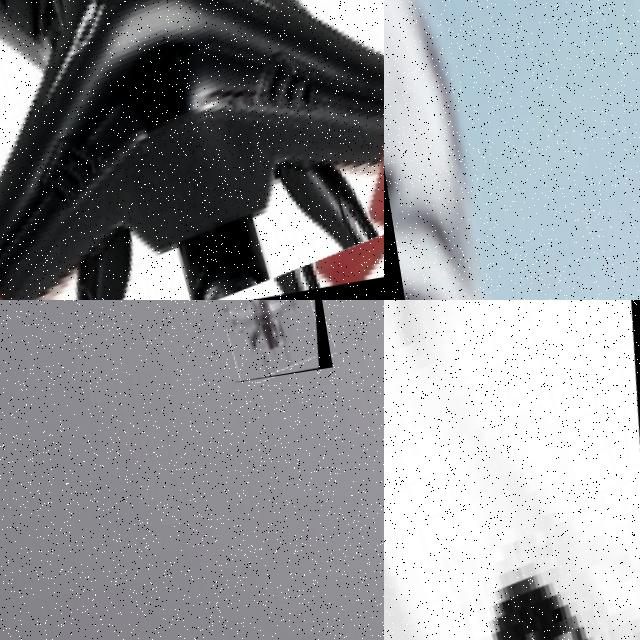0: (213, 300, 333, 383)
drone: (0, 0, 384, 300), (384, 300, 640, 640)
